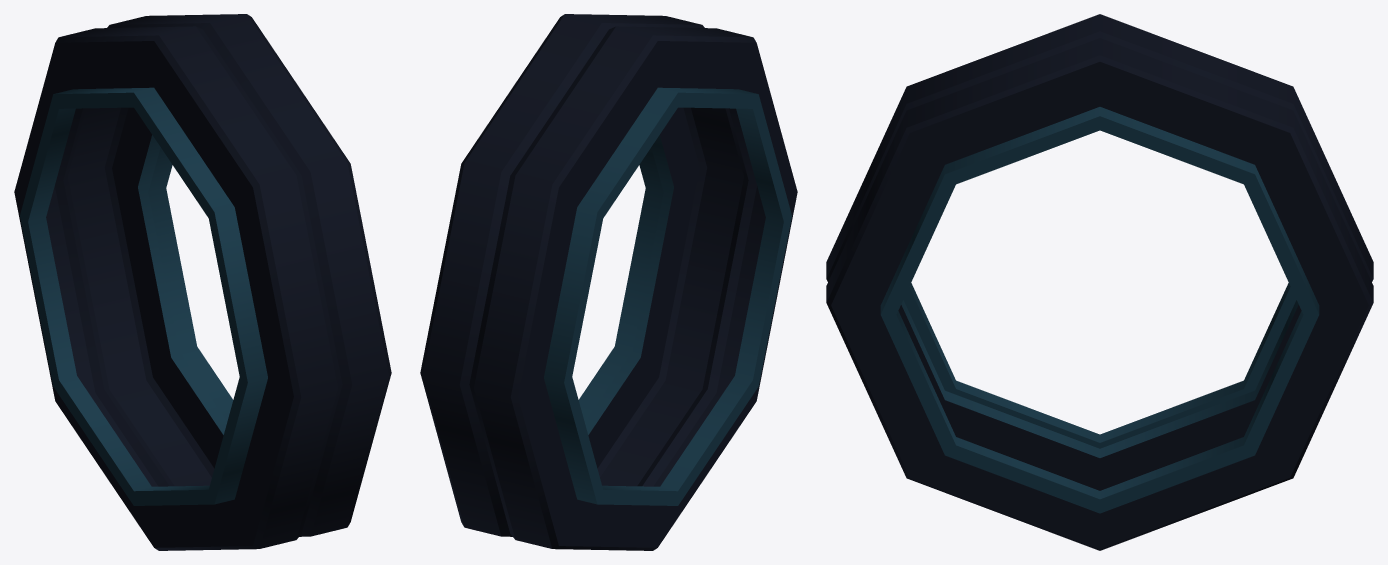
The model's file is PipeSmall_Connector_02_Full.fbx.
3 renders of one model, left to right at view 1: azimuth 30°, elevation 25°; view 2: azimuth 150°, elevation 25°; view 3: azimuth 270°, elevation 25°, orthographic. The views are drawn at different scales.
Visible parts, largest first — view 1: PipeSmall_Connector_02_Full.001; view 2: PipeSmall_Connector_02_Full.001; view 3: PipeSmall_Connector_02_Full.001.
Part boxes in pixels (bbox=[...]): PipeSmall_Connector_02_Full.001: bbox=[14, 14, 391, 550]; PipeSmall_Connector_02_Full.001: bbox=[420, 14, 797, 550]; PipeSmall_Connector_02_Full.001: bbox=[826, 14, 1373, 550].
Size of the model in its own units: 0.038 by 0.1356 by 0.1356.
